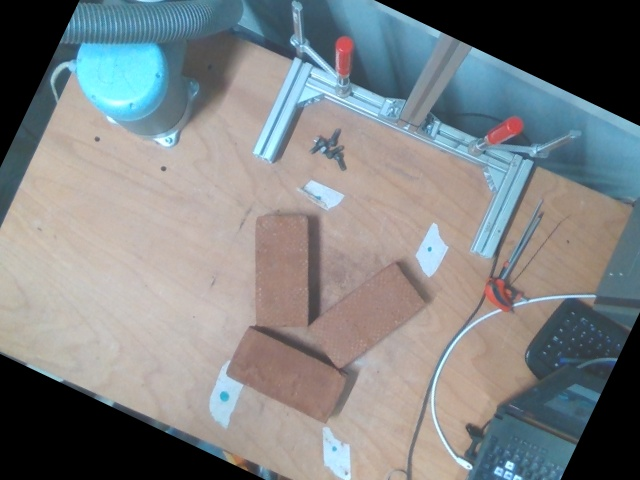brick: (309, 265, 425, 370), (228, 330, 347, 422), (254, 215, 307, 324)
